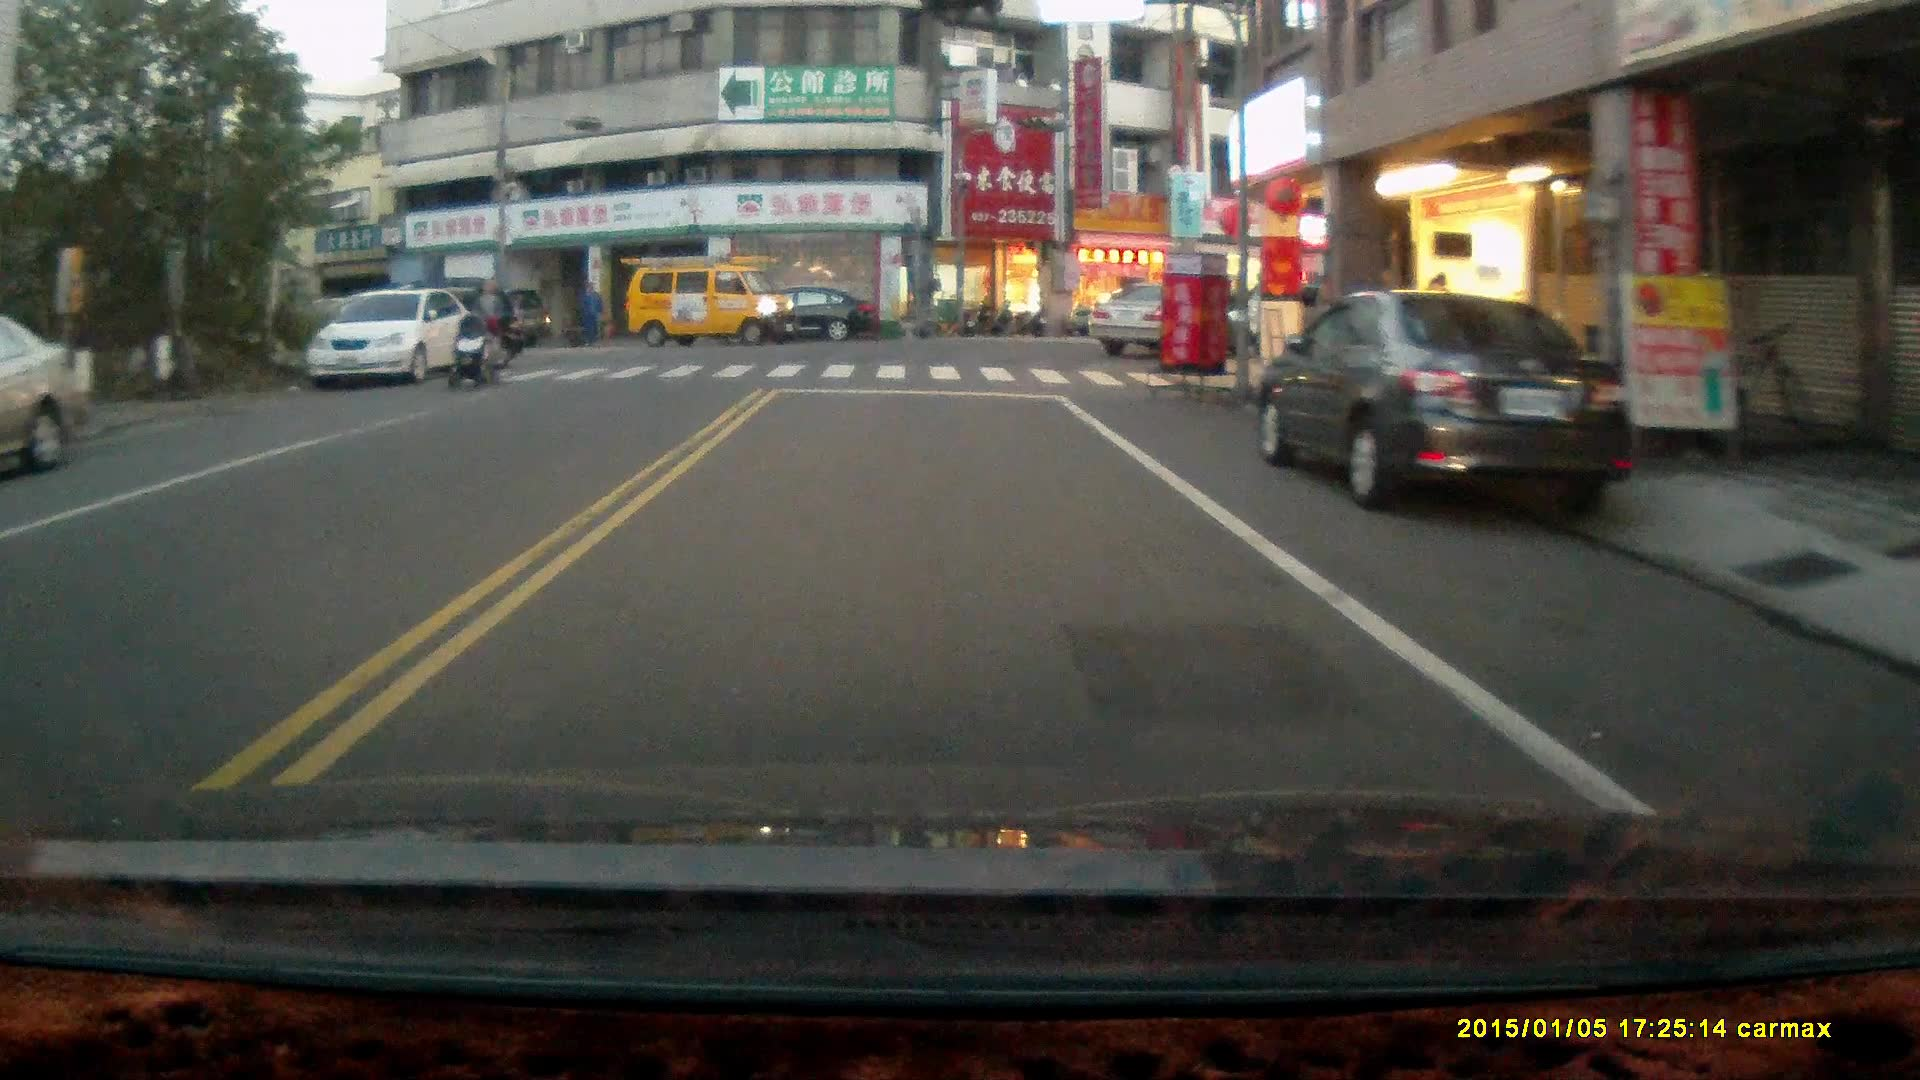pedestrian: (471, 276, 501, 368), (576, 278, 602, 346)
rider: (443, 313, 502, 393)
vehicle: (1257, 290, 1636, 513), (308, 289, 480, 391), (627, 256, 799, 350), (1, 312, 92, 480), (1085, 279, 1239, 356), (738, 286, 882, 350)
